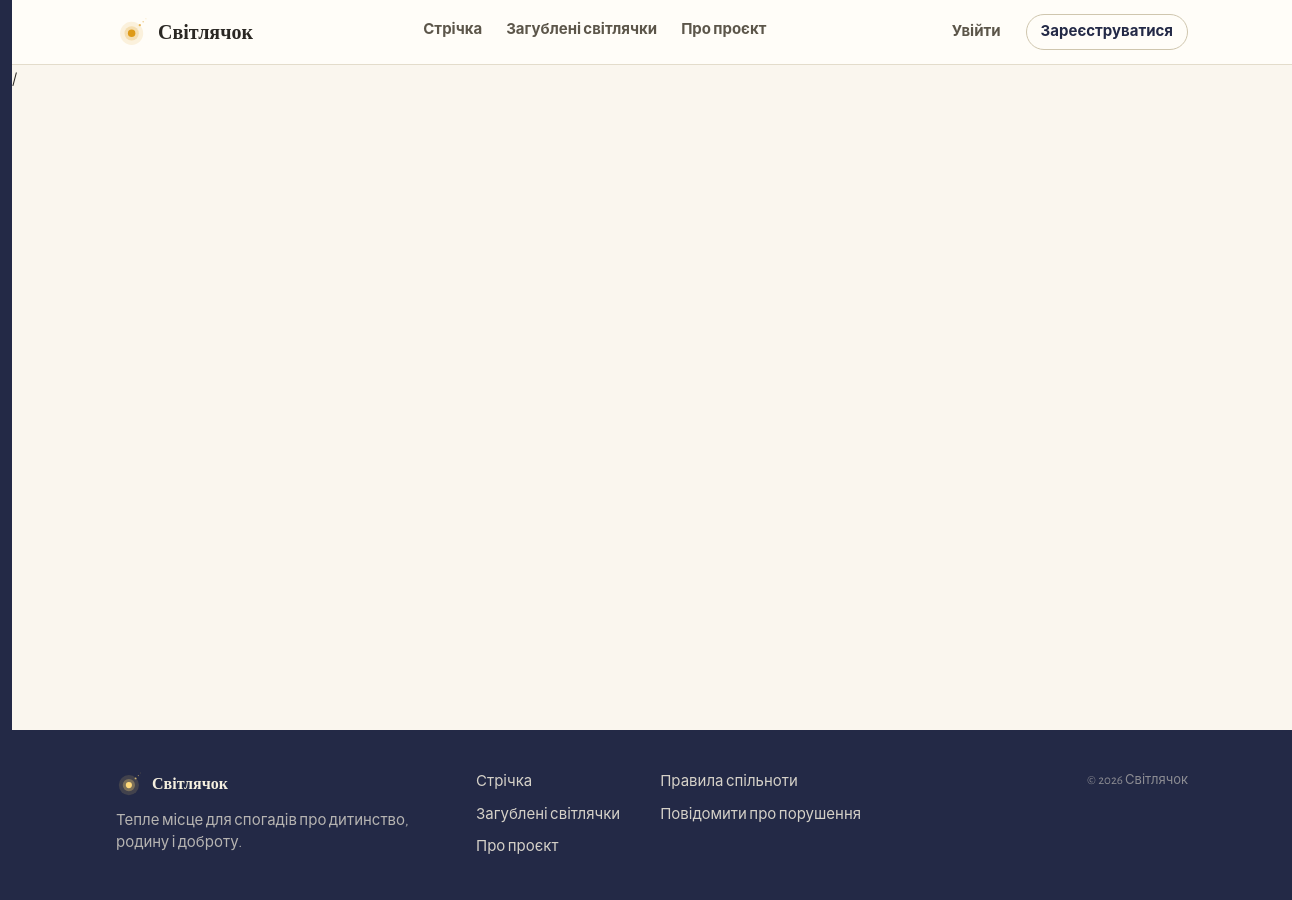
Layout footer links › shows a visible rules link that navigates to /rules
What coordinates should you click on to do the following:
click the link "Правила спільноти"
I would click on:
 (729, 781)
Its box is [660,774,798,789].
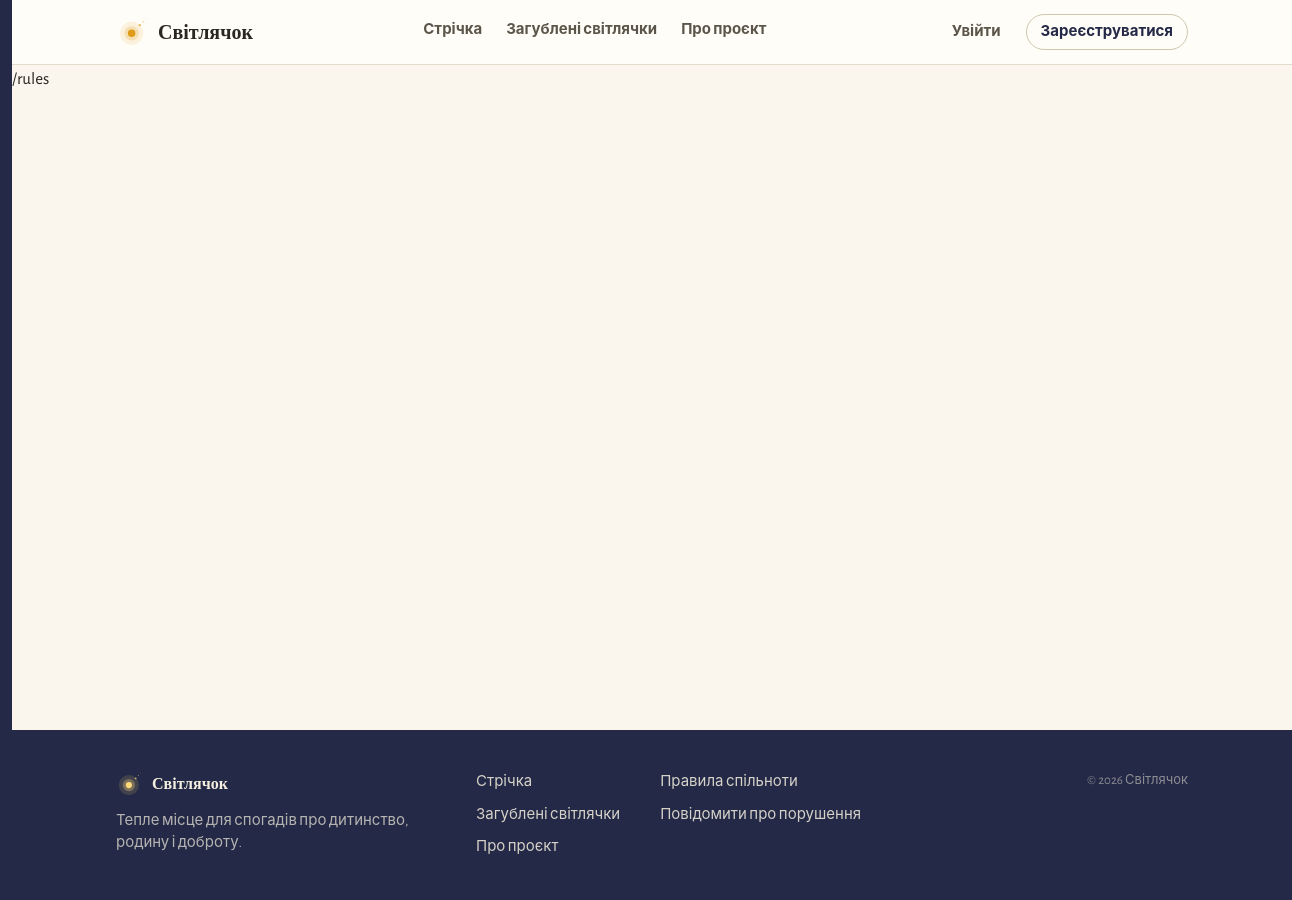
Expected: the text with test id "pathname" reads "/rules", [12,70,49,87]
